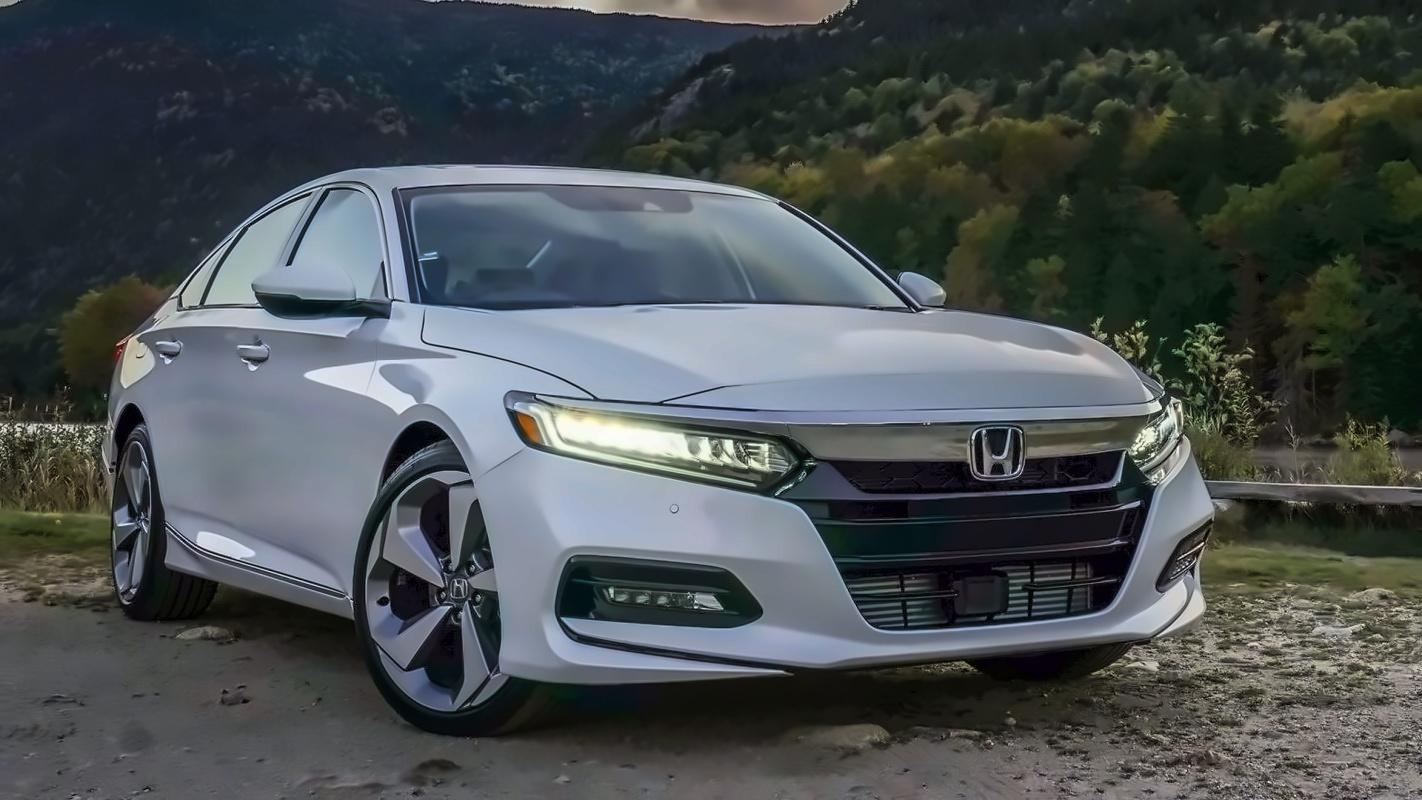Car hood: (409, 303, 1168, 432)
Driver-s door - -F-R-: (204, 161, 401, 630)
Fender - -F-R-: (350, 300, 578, 584)
Fender - -R-R-: (97, 276, 166, 492)
Front bumper: (478, 444, 1217, 685)
Headlight - -L-: (1120, 400, 1191, 487)
Headlight - -R-: (503, 388, 814, 502)
Passenger-s door - -R-R-: (152, 160, 320, 635)
Side bumper - -R-: (150, 510, 362, 630)
Side mirror - -L-: (898, 273, 953, 317)
Side mirror - -R-: (246, 259, 393, 322)
